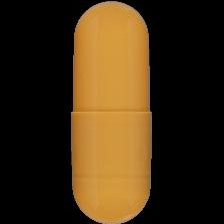51672-4012: (0, 0, 224, 224)
